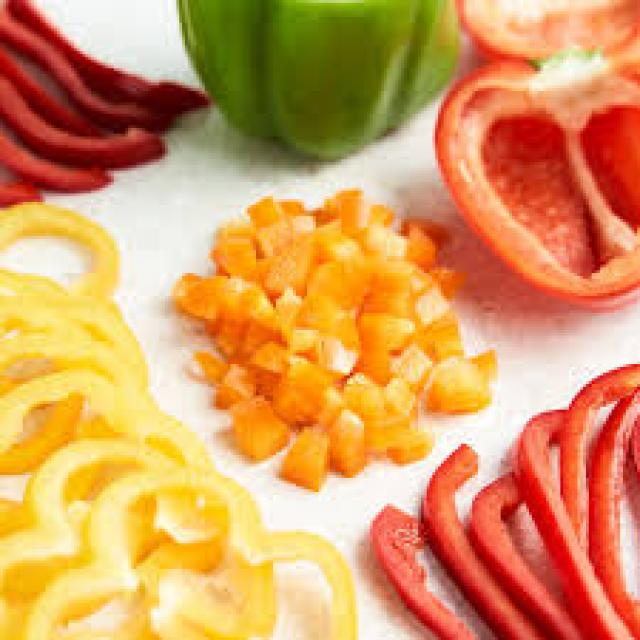Bell pepper: (409, 42, 640, 310)
